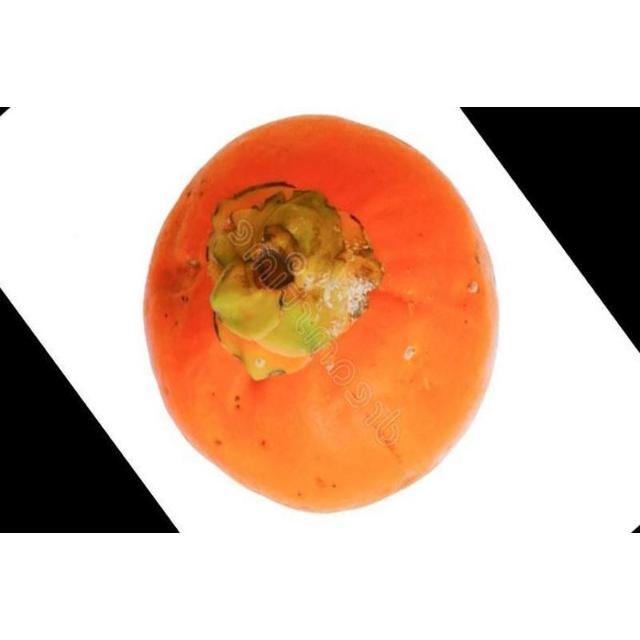good: (142, 114, 502, 516)
